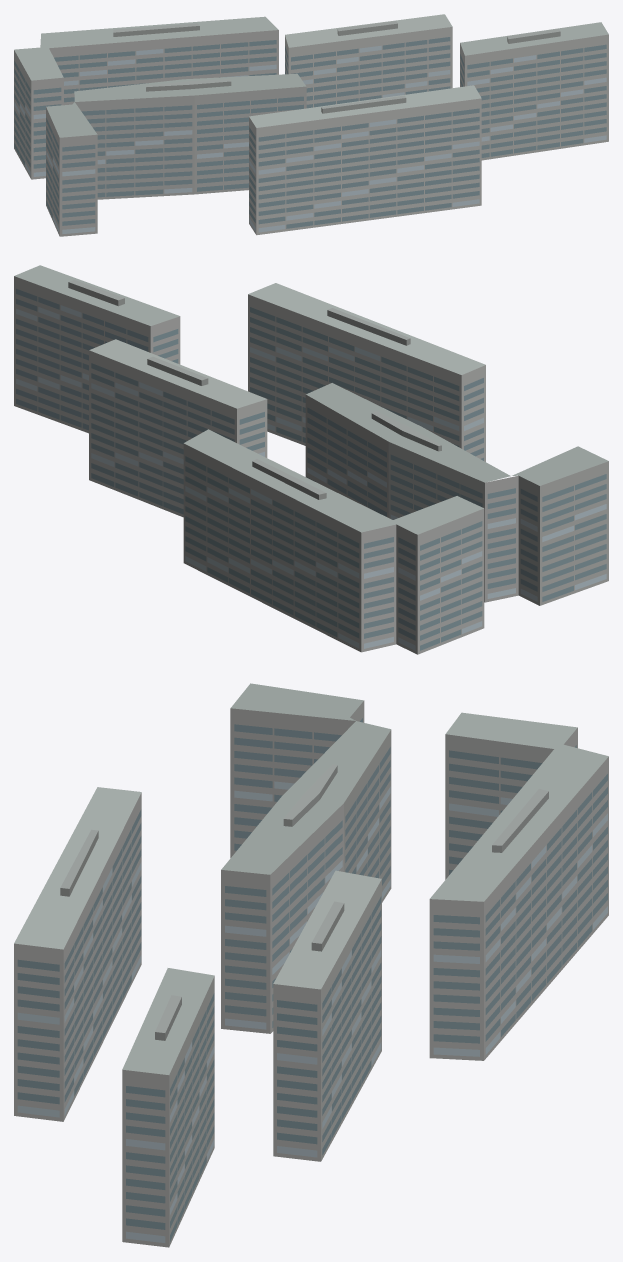
Rendered from apt-a15785608.glb.
The picture shows the model from 3 angles, top to bottom: view 1: azimuth 30°, elevation 25°; view 2: azimuth 150°, elevation 25°; view 3: azimuth 270°, elevation 25°; orthographic projection. The views are drawn at different scales.
Parts seen in each view (by area): view 1: apt-a15785608; view 2: apt-a15785608; view 3: apt-a15785608.
Boxes of the visible parts, x1,y1,x2,y2 form: apt-a15785608: (14,14,608,236); apt-a15785608: (14,265,608,654); apt-a15785608: (14,683,608,1247).
Bounding box in the file's own units: 200 × 41.43 × 124.
